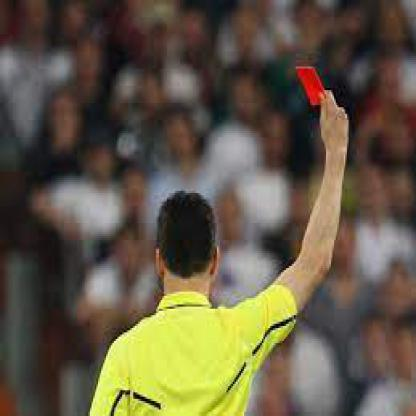foul: (278, 25, 363, 265)
